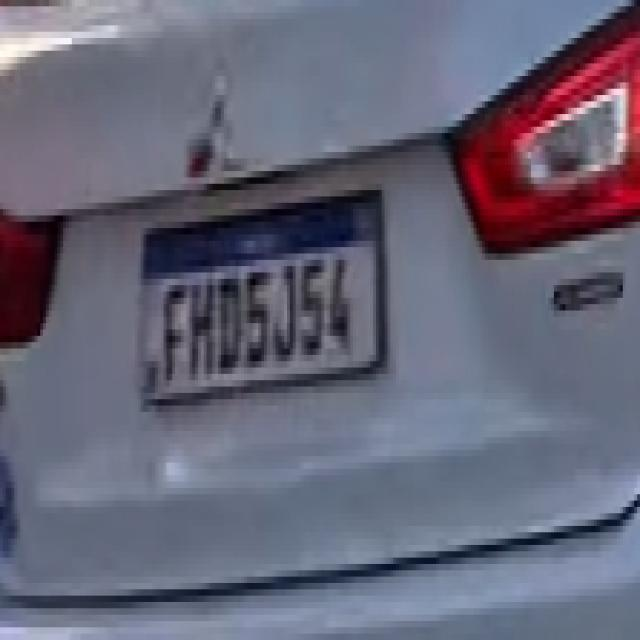Placa_mercosul_carro: (138, 182, 390, 417)
